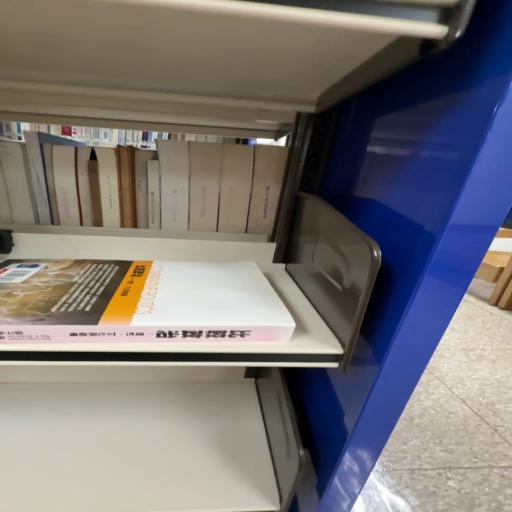flat: (0, 259, 295, 344)
